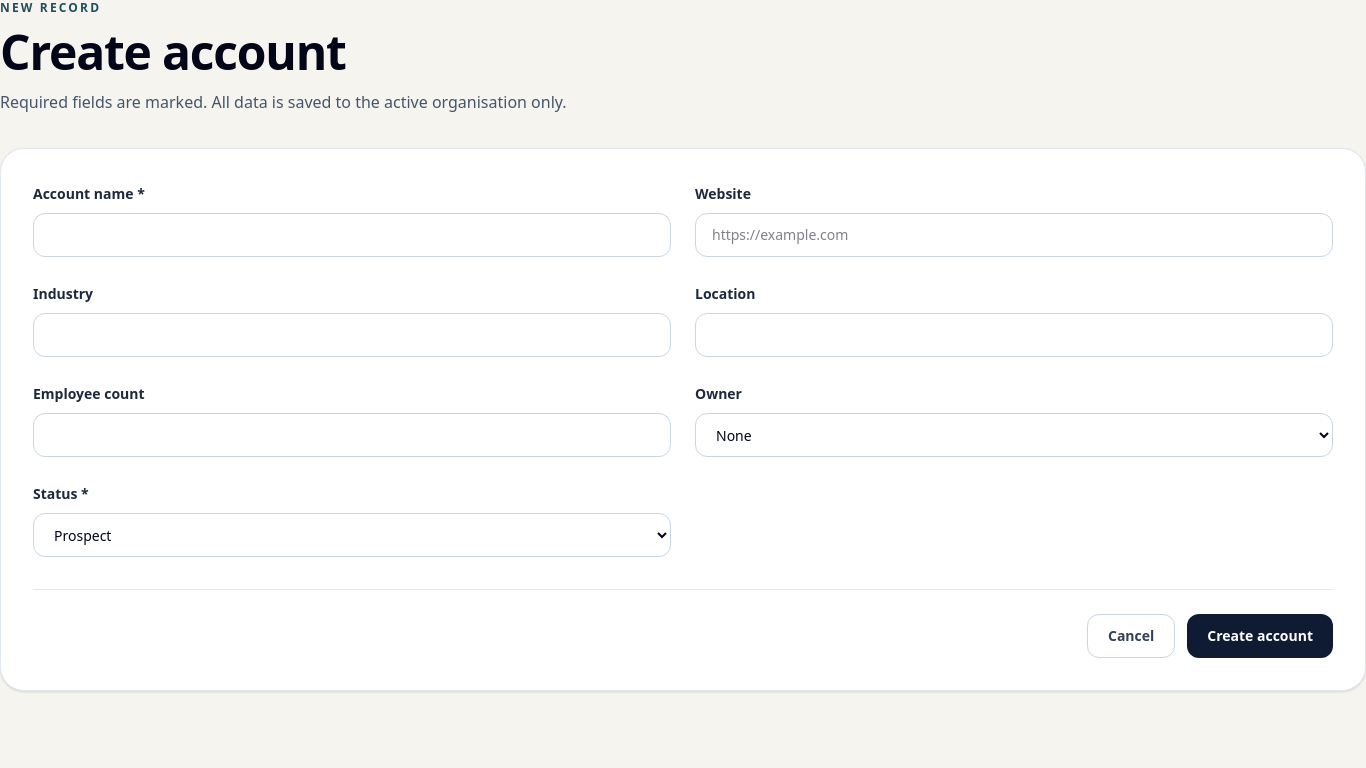
Test: BusinessEntityForm › shows safe API validation errors without navigating
Type "Acme" into the field labelled "Account name *".
click(352, 235); type("Acme")  # box top-left (33, 213), bottom-right (671, 257)
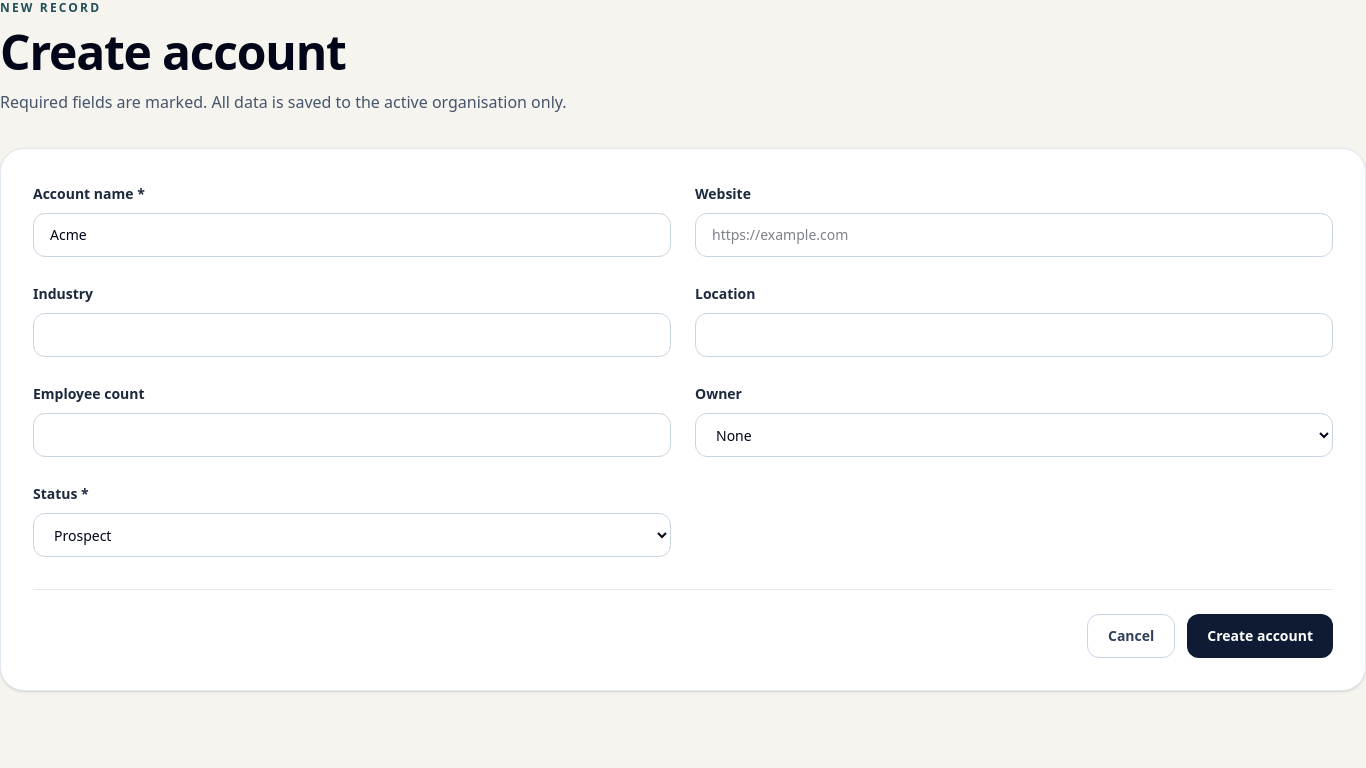
Click the button "Create account".
click(1260, 636)  # box top-left (1187, 614), bottom-right (1333, 658)
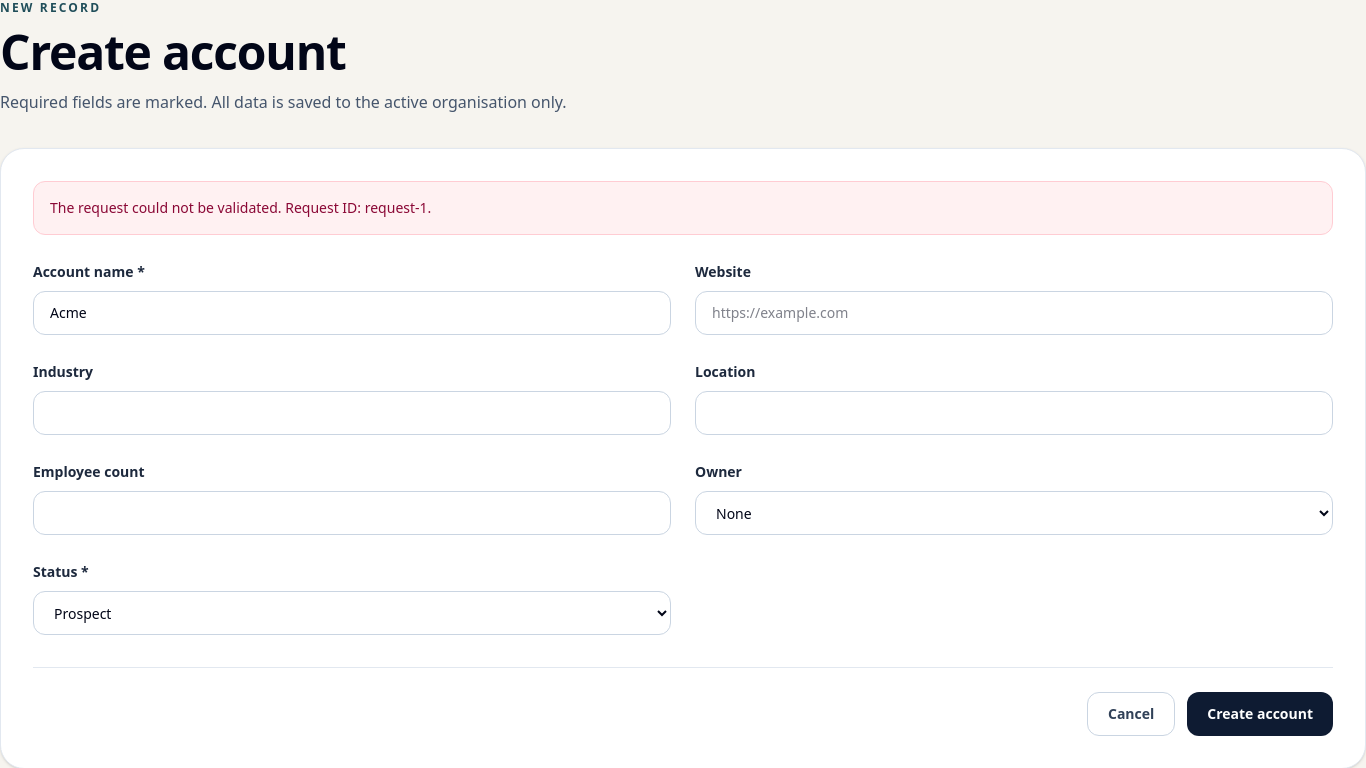
Expected: the message shows "The request could not be validated.", top-left (50, 198), bottom-right (431, 217)
